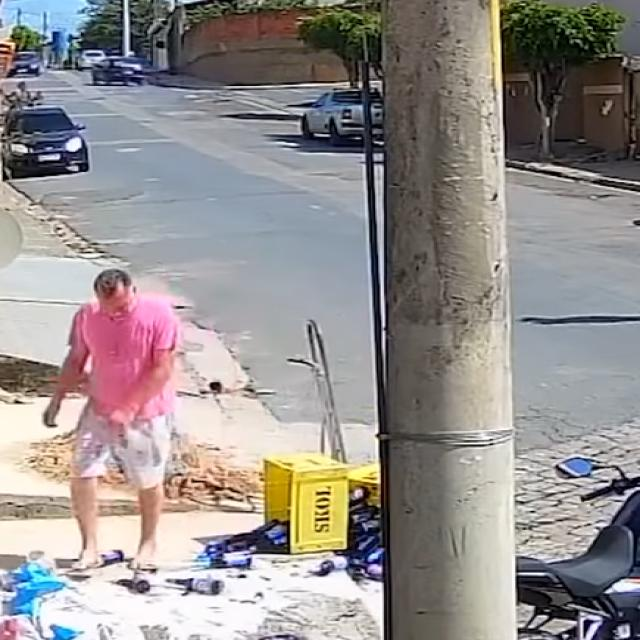person: (43, 267, 177, 569)
